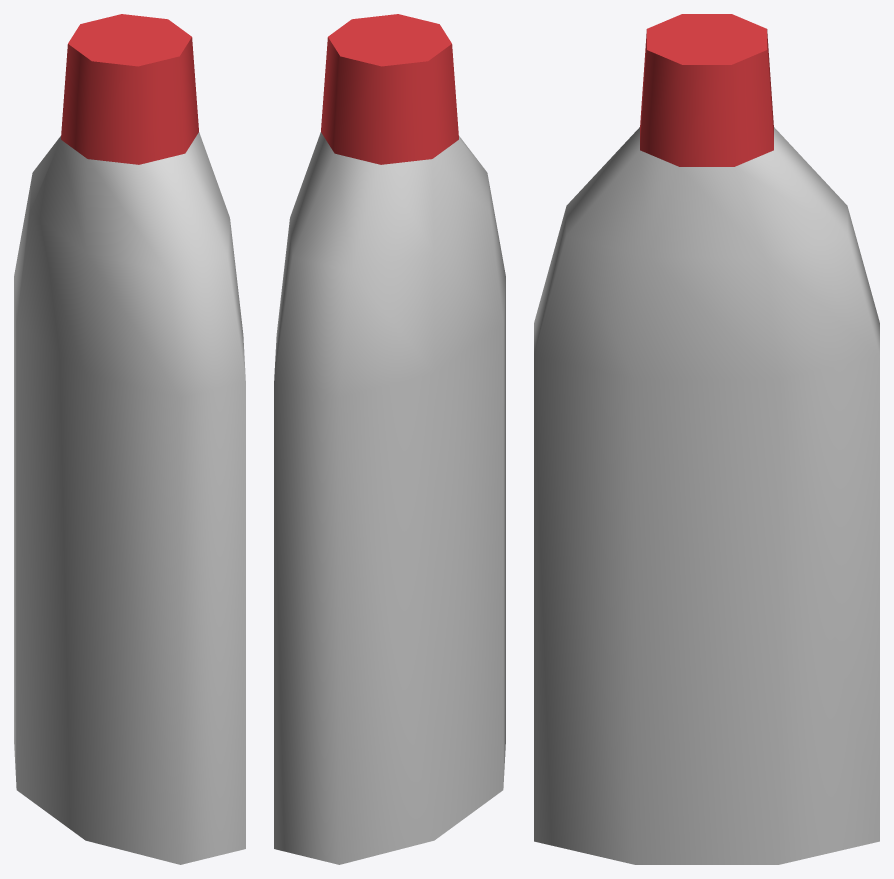
The model's file is bottle_cleaning_soap.fbx.
The picture shows the model from 3 angles, left to right: view 1: azimuth 30°, elevation 25°; view 2: azimuth 150°, elevation 25°; view 3: azimuth 270°, elevation 25°; orthographic projection. The views are drawn at different scales.
Parts seen in each view (by area): view 1: Bottle_Soap; view 2: Bottle_Soap; view 3: Bottle_Soap.
Part boxes in pixels (bbox=[...]): Bottle_Soap: bbox=[14, 14, 245, 864]; Bottle_Soap: bbox=[274, 14, 505, 864]; Bottle_Soap: bbox=[534, 14, 879, 864].
Size of the model in its own units: 44.34 by 203 by 80.94.
